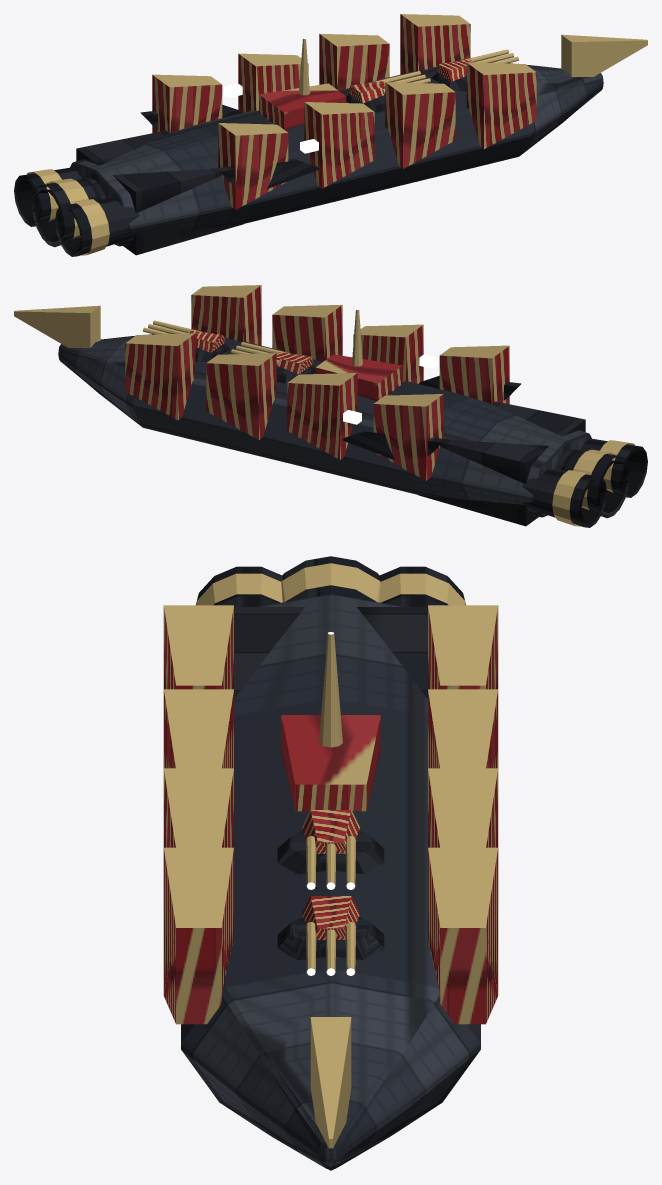
Rendered from heavy_cruiser.glb.
3 renders of one model, top to bottom at view 1: azimuth 30°, elevation 25°; view 2: azimuth 150°, elevation 25°; view 3: azimuth 270°, elevation 25°, orthographic. The views are drawn at different scales.
Parts seen in each view (by area): view 1: hull_body, engine_block, weapon_turrets, sensor_tower, shield_pylons; view 2: hull_body, engine_block, weapon_turrets, sensor_tower, shield_pylons; view 3: hull_body, engine_block, weapon_turrets, sensor_tower.
Part boxes in pixels (x1=…): hull_body: x1=70, y1=14, x2=647, y2=246; engine_block: x1=14, y1=130, x2=243, y2=256; weapon_turrets: x1=346, y1=49, x2=518, y2=112; sensor_tower: x1=259, y1=37, x2=346, y2=130; shield_pylons: x1=140, y1=83, x2=319, y2=188; hull_body: x1=14, y1=285, x2=591, y2=517; engine_block: x1=418, y1=401, x2=647, y2=527; weapon_turrets: x1=143, y1=320, x2=315, y2=383; sensor_tower: x1=315, y1=308, x2=402, y2=401; shield_pylons: x1=342, y1=354, x2=521, y2=459; hull_body: x1=163, y1=594, x2=498, y2=1170; engine_block: x1=196, y1=556, x2=465, y2=698; weapon_turrets: x1=277, y1=810, x2=384, y2=975; sensor_tower: x1=281, y1=632, x2=380, y2=811.
Size of the model in its own units: 50 by 12.32 by 12.08.
Materials: 1 (1 with a texture image).
